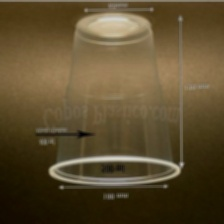glass: (45, 9, 185, 188)
